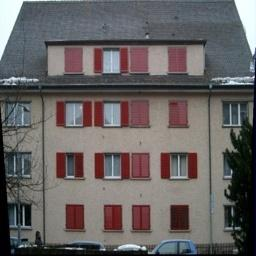building: (0, 1, 256, 243)
